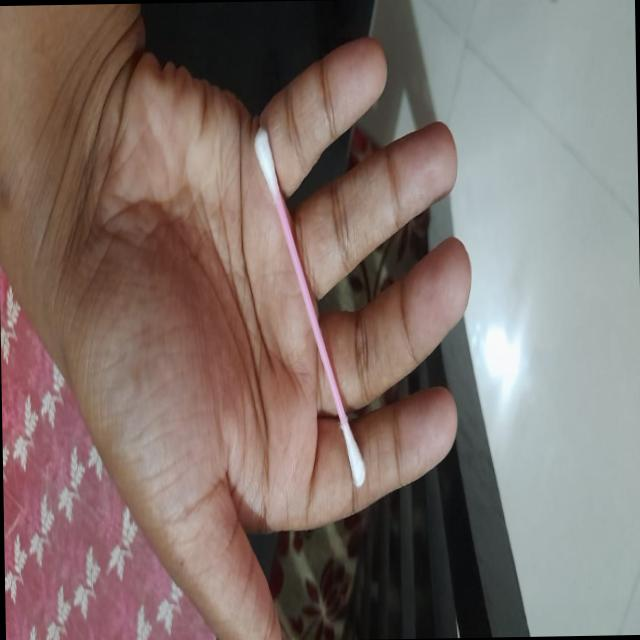Earbud - Non Recyclable: (251, 121, 367, 493)
